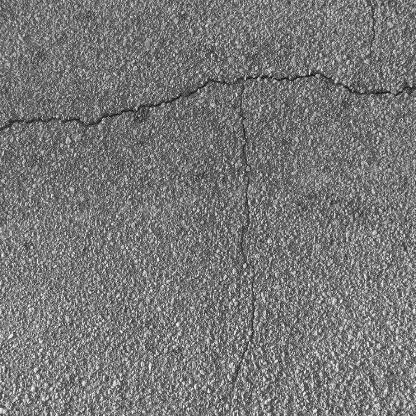Cracks: (0, 69, 416, 135), (227, 137, 261, 406), (364, 0, 380, 63)
